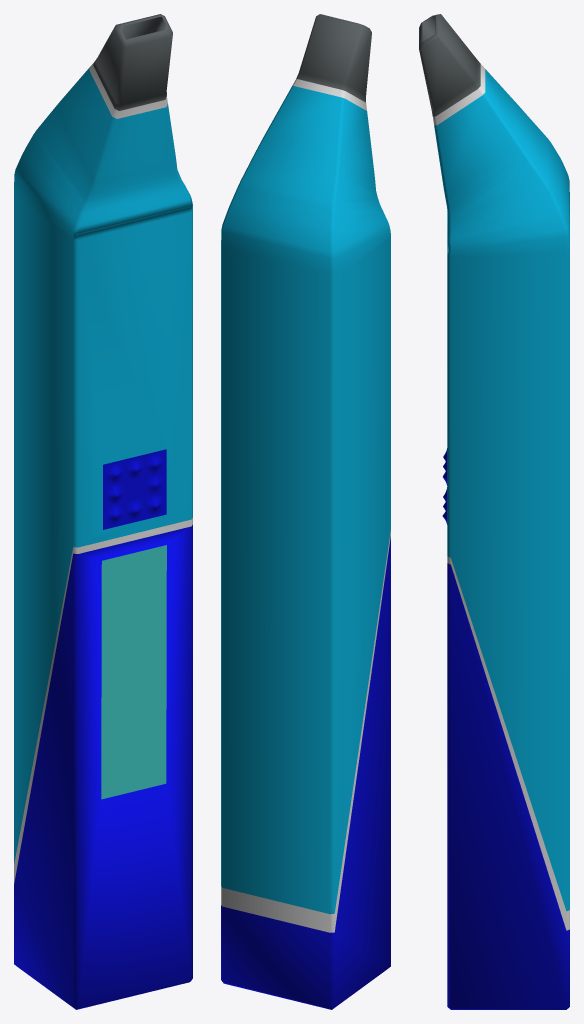
Rendered from VAPE-2.fbx.
3 views of the same model, side by side, from view 1: azimuth 30°, elevation 25°; view 2: azimuth 150°, elevation 25°; view 3: azimuth 270°, elevation 25° (orthographic). The views are drawn at different scales.
Parts seen in each view (by area): view 1: CIG1; view 2: CIG1; view 3: CIG1.
Boxes of the visible parts, box(x1,y1,x2,y2) form: CIG1: box(14, 14, 192, 1009); CIG1: box(221, 14, 390, 1009); CIG1: box(419, 14, 569, 1009).
Bounding box in the file's own units: 200 × 1566 × 223.
